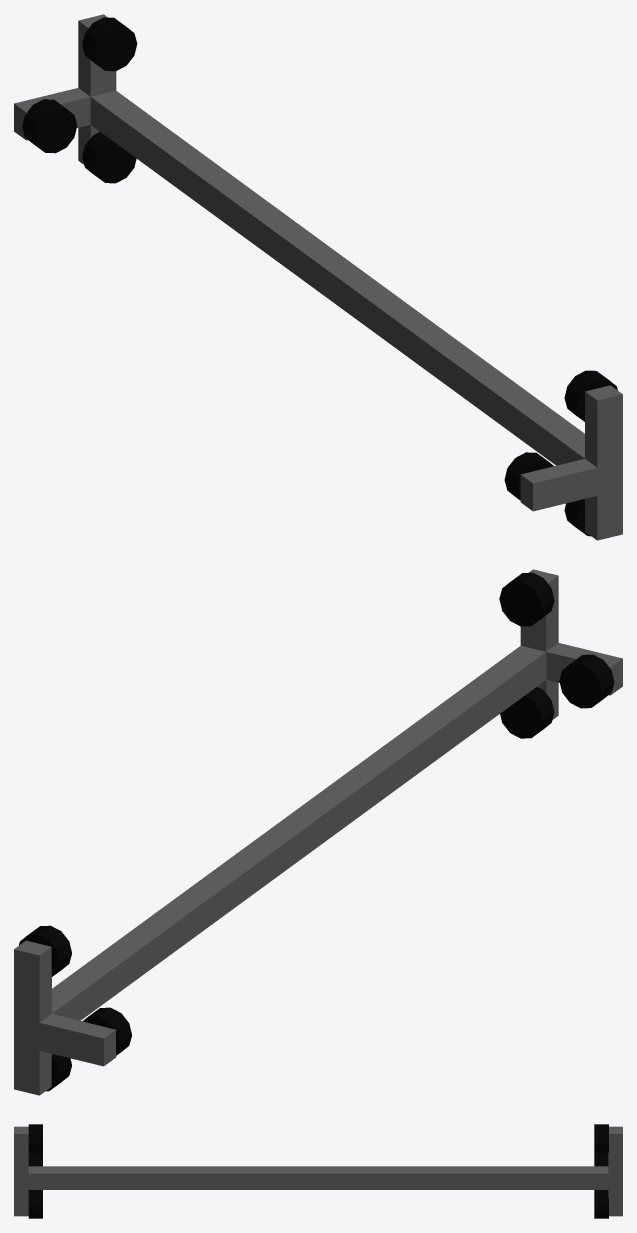
File: bar.obj
3 renders of one model, top to bottom at view 1: azimuth 30°, elevation 25°; view 2: azimuth 150°, elevation 25°; view 3: azimuth 270°, elevation 25°, orthographic. The views are drawn at different scales.
Parts seen in each view (by area): view 1: Plane.002; view 2: Plane.002; view 3: Plane.002.
Boxes of the visible parts, <box> form: Plane.002: <box>14,14,622,540</box>; Plane.002: <box>14,569,622,1095</box>; Plane.002: <box>14,1124,622,1218</box>.
Size of the model in its own units: 2.4 by 3.5 by 20.99.
Materials: 1 (1 with a texture image).
